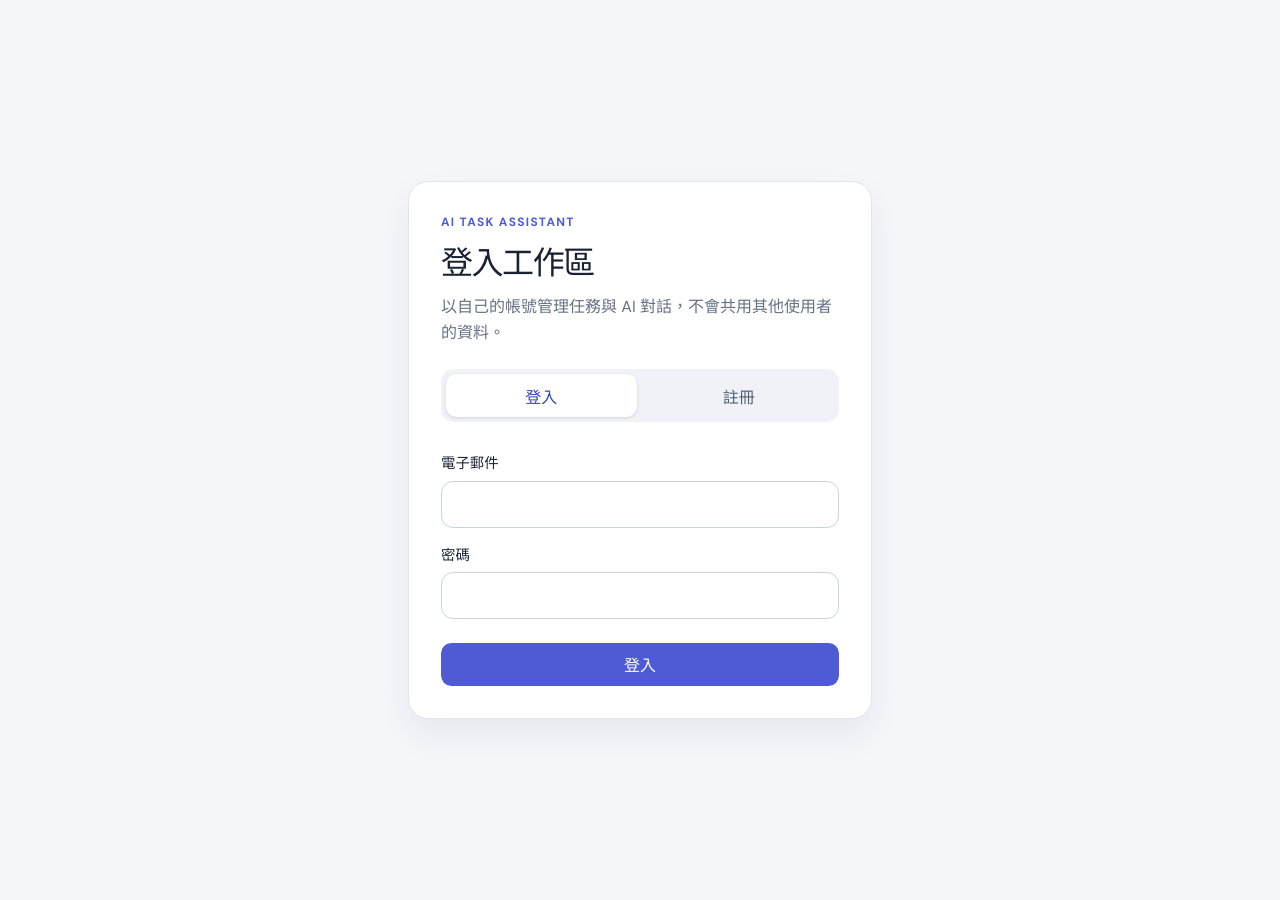
Test: App authentication state › logs in and begins a fresh user-scoped workspace
Check: the heading "登入工作區" is shown, box [441,242,594,284]
Type "second@example.com" into the field labelled "電子郵件" at (640, 505), box [441,481,839,528]
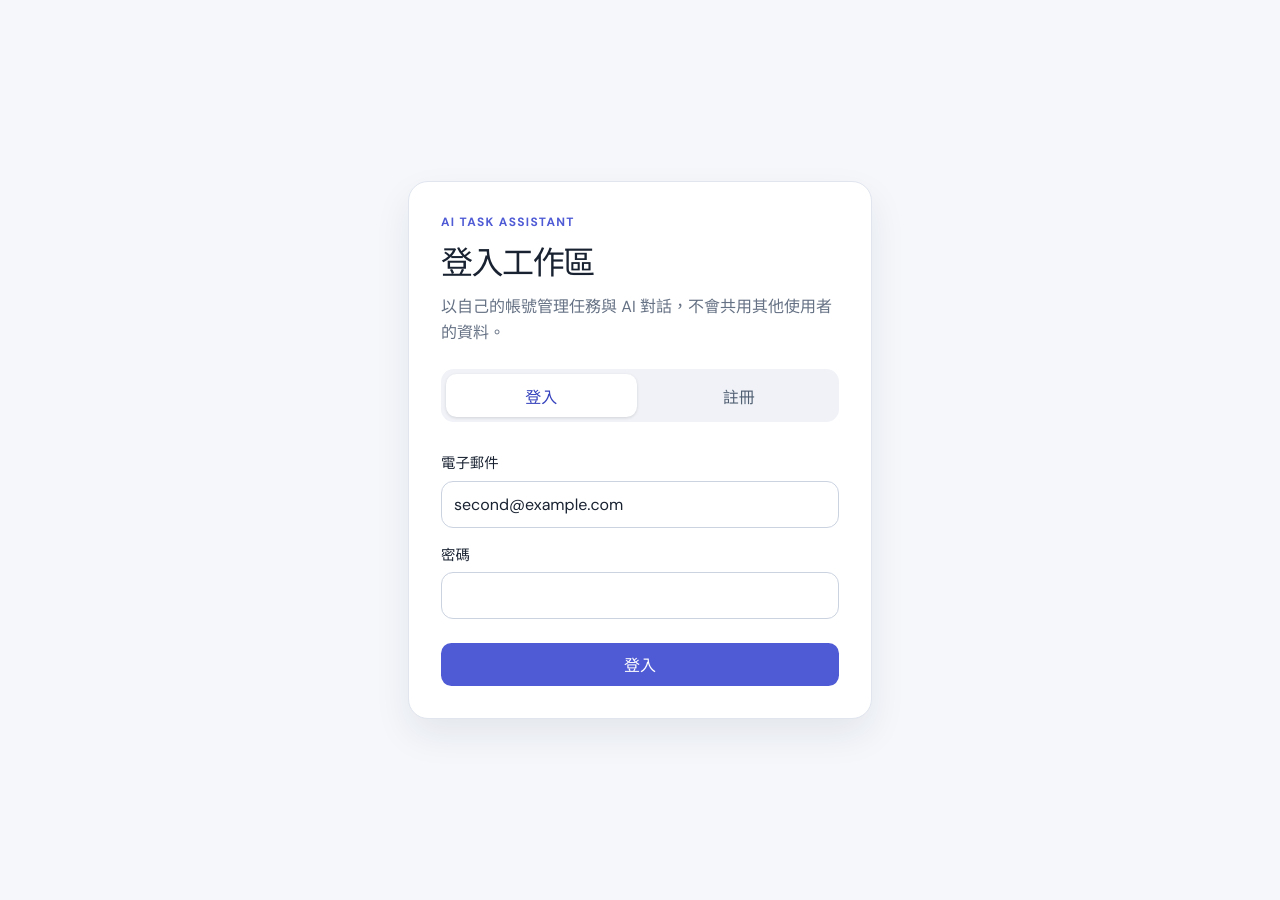
Type "123456789012" into the password field labelled "密碼" at (640, 596), box [441,572,839,620]
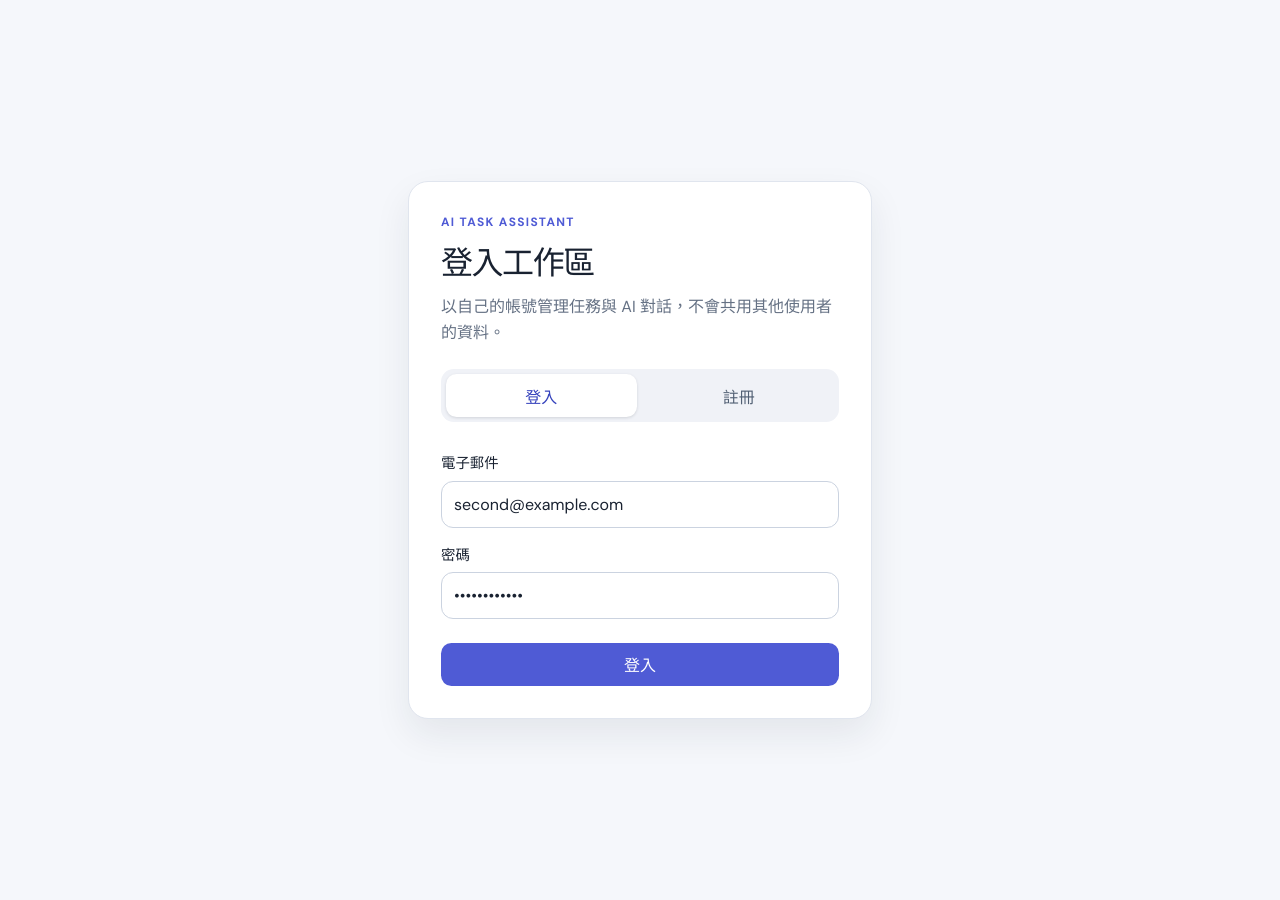
Click the button "登入" at (640, 664), box [441,643,839,686]
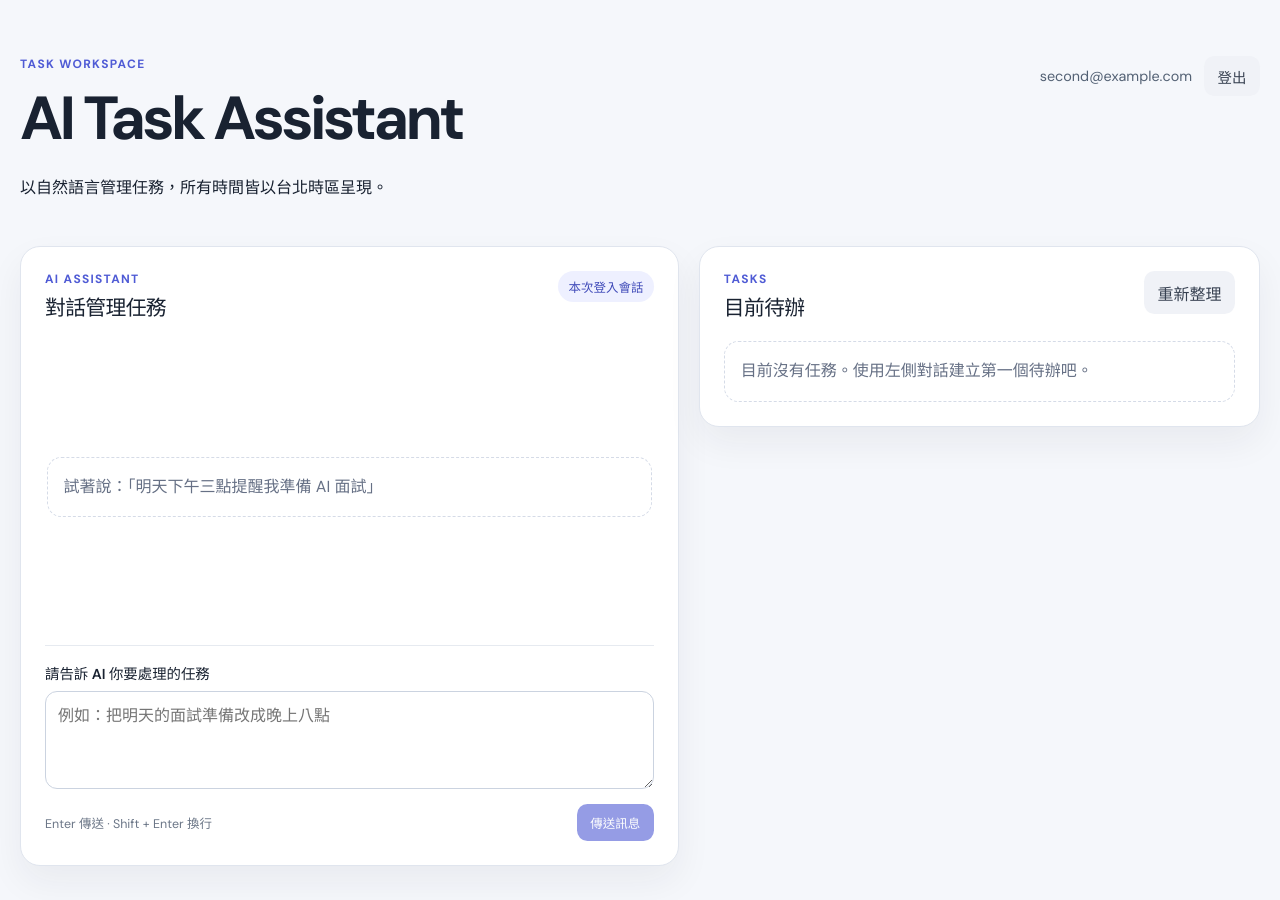
Check: the text "second@example.com" is shown, box [1040,67,1192,85]
